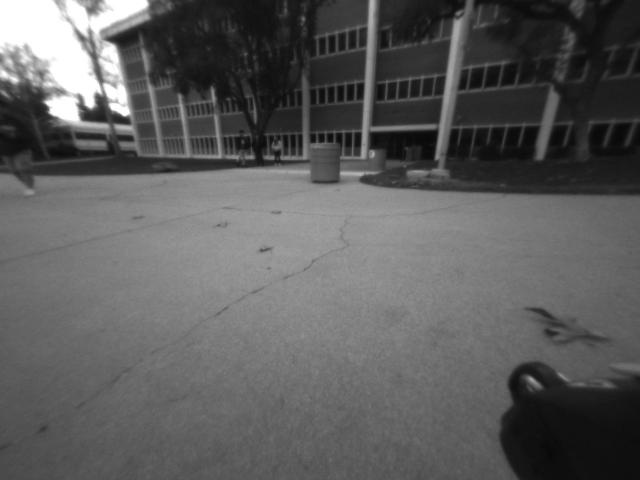trashcan: (304, 136, 345, 189), (363, 140, 395, 176)
